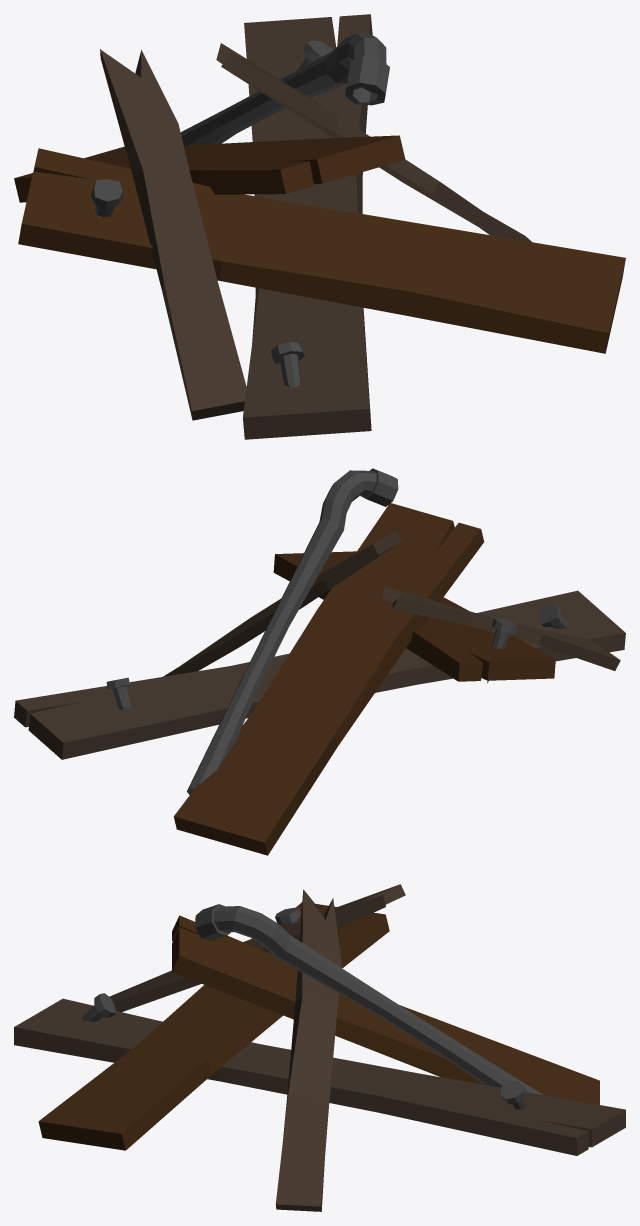
Rendered from build-trash.fbx.
3 views of the same model, one above another, from view 1: azimuth 30°, elevation 25°; view 2: azimuth 150°, elevation 25°; view 3: azimuth 270°, elevation 25° (orthographic). The views are drawn at different scales.
Visible parts, largest first — view 1: Cube.011, Cylinder.003, Cube.012, Cube.010, Cylinder.004, Cube.013; view 2: Cube.010, Cylinder.003, Cylinder.004, Cube.011, Cube.012, Cube.013; view 3: Cylinder.003, Cube.011, Cube.010, Cube.013, Cylinder.004, Cube.012.
Boxes of the visible parts, x1=… form: Cube.011: x1=18, y1=148, x2=625, y2=353; Cylinder.003: x1=243, y1=14, x2=372, y2=439; Cube.012: x1=100, y1=49, x2=247, y2=420; Cube.010: x1=14, y1=135, x2=405, y2=202; Cylinder.004: x1=180, y1=33, x2=389, y2=145; Cube.013: x1=216, y1=43, x2=531, y2=241; Cube.010: x1=173, y1=503, x2=484, y2=855; Cylinder.003: x1=14, y1=590, x2=625, y2=759; Cylinder.004: x1=187, y1=468, x2=398, y2=794; Cube.011: x1=273, y1=551, x2=555, y2=683; Cube.012: x1=382, y1=586, x2=620, y2=670; Cube.013: x1=163, y1=530, x2=401, y2=676; Cylinder.003: x1=14, y1=993, x2=625, y2=1155; Cube.011: x1=38, y1=902, x2=389, y2=1150; Cube.010: x1=172, y1=915, x2=599, y2=1104; Cube.013: x1=275, y1=889, x2=341, y2=1211; Cylinder.004: x1=195, y1=904, x2=543, y2=1095; Cube.012: x1=109, y1=884, x2=405, y2=1011.
Size of the model in its own units: 205 by 113 by 268.
